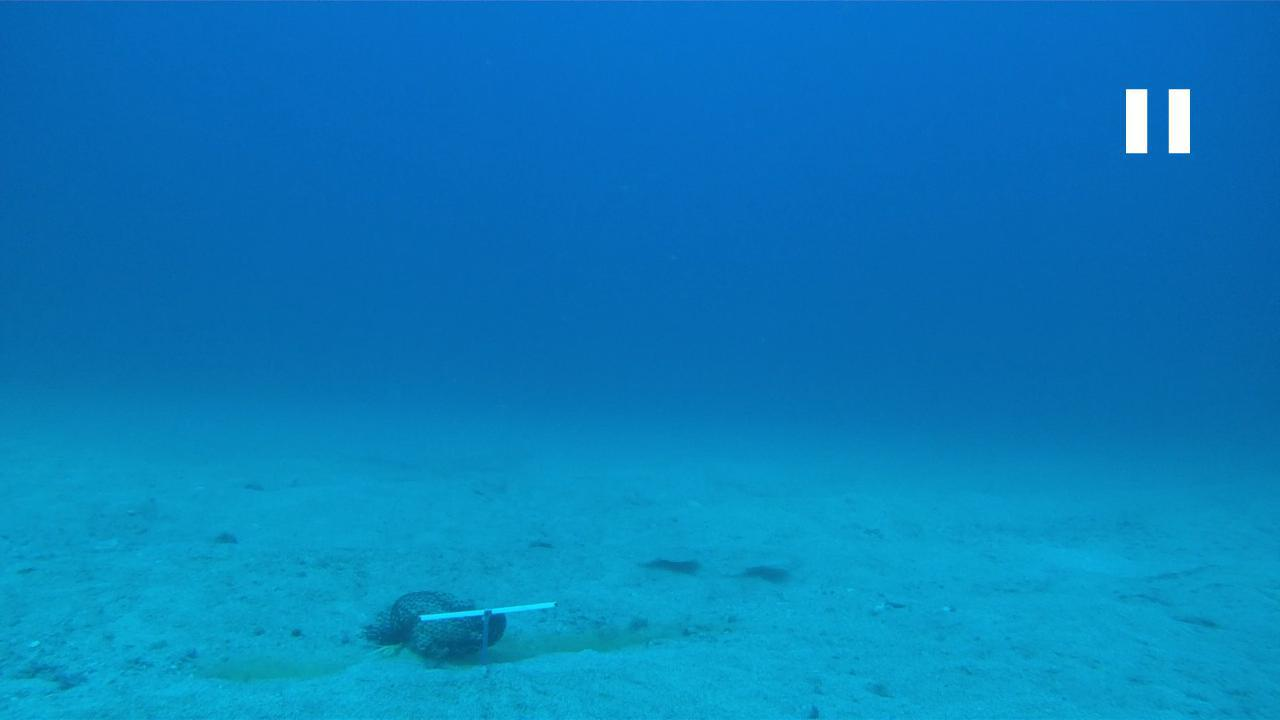bothus: (630, 546, 706, 573), (738, 554, 795, 574)
